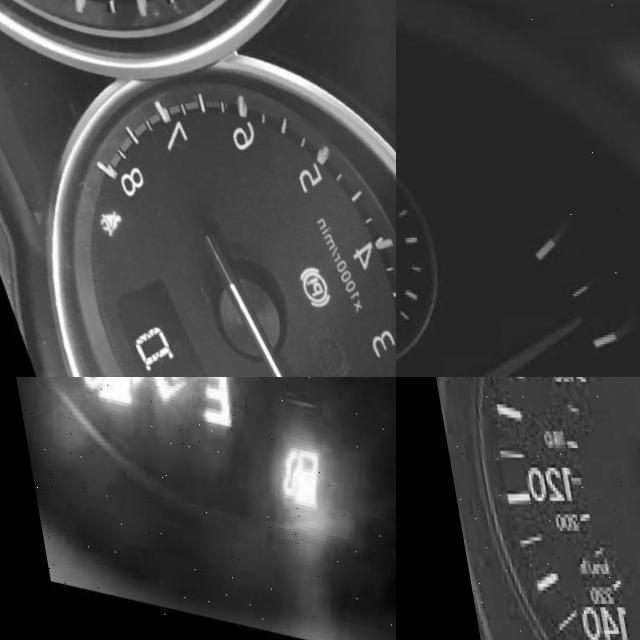Seat Belt: (83, 204, 115, 239)
